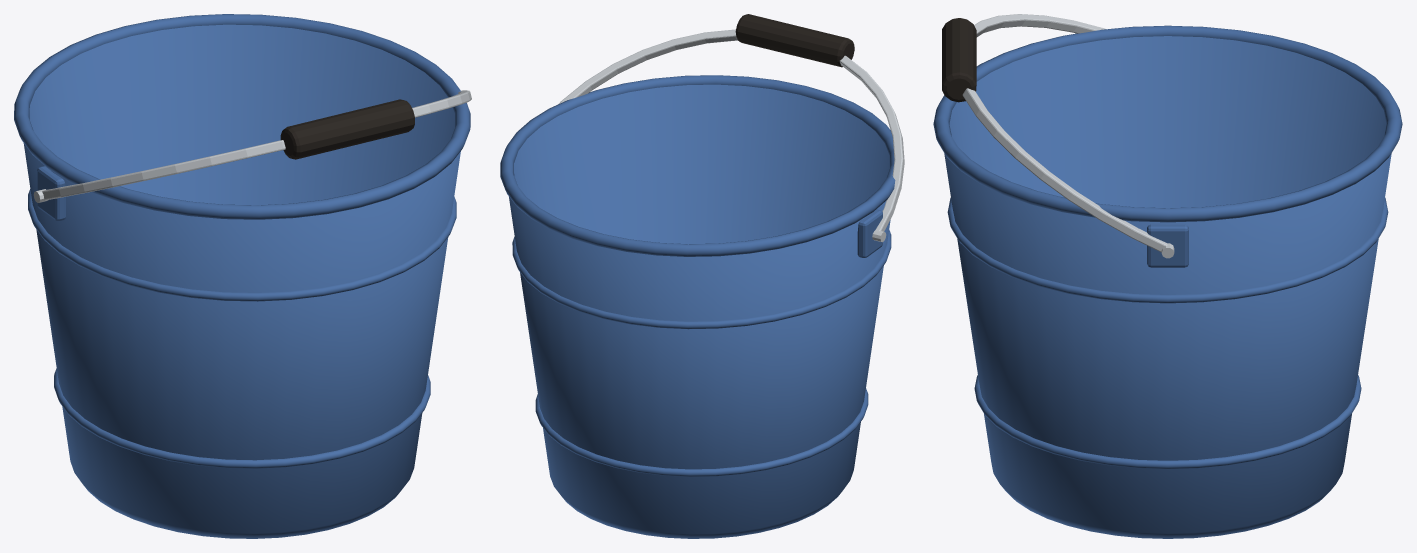
File: hh_cat_bucket.glb
3 renders of one model, left to right at view 1: azimuth 30°, elevation 25°; view 2: azimuth 150°, elevation 25°; view 3: azimuth 270°, elevation 25°, orthographic. The views are drawn at different scales.
Visible parts, largest first — view 1: bucket, rim, grip, rib.001, rib, handle, lug; view 2: bucket, rim, handle, grip, rib.001, rib, lug; view 3: bucket, rim, handle, rib.001, rib, grip, lug.001.
Part boxes in pixels (bbox=[...]): bucket: bbox=[23, 24, 460, 538]; rim: bbox=[14, 14, 470, 219]; grip: bbox=[280, 99, 414, 159]; rib.001: bbox=[28, 189, 456, 301]; rib: bbox=[54, 368, 430, 468]; handle: bbox=[42, 90, 471, 200]; lug: bbox=[37, 166, 65, 220]; bucket: bbox=[509, 84, 890, 538]; rim: bbox=[500, 75, 895, 256]; handle: bbox=[558, 29, 904, 231]; grip: bbox=[735, 14, 854, 67]; rib.001: bbox=[512, 230, 891, 329]; rib: bbox=[535, 388, 868, 476]; lug: bbox=[857, 209, 882, 257]; bucket: bbox=[944, 36, 1391, 538]; rim: bbox=[933, 25, 1402, 222]; handle: bbox=[962, 14, 1167, 252]; rib.001: bbox=[947, 197, 1388, 303]; rib: bbox=[974, 375, 1361, 468]; grip: bbox=[942, 18, 976, 102]; lug.001: bbox=[1147, 224, 1188, 267].
Bounding box in the file's own units: 0.3 × 0.3 × 0.3.
